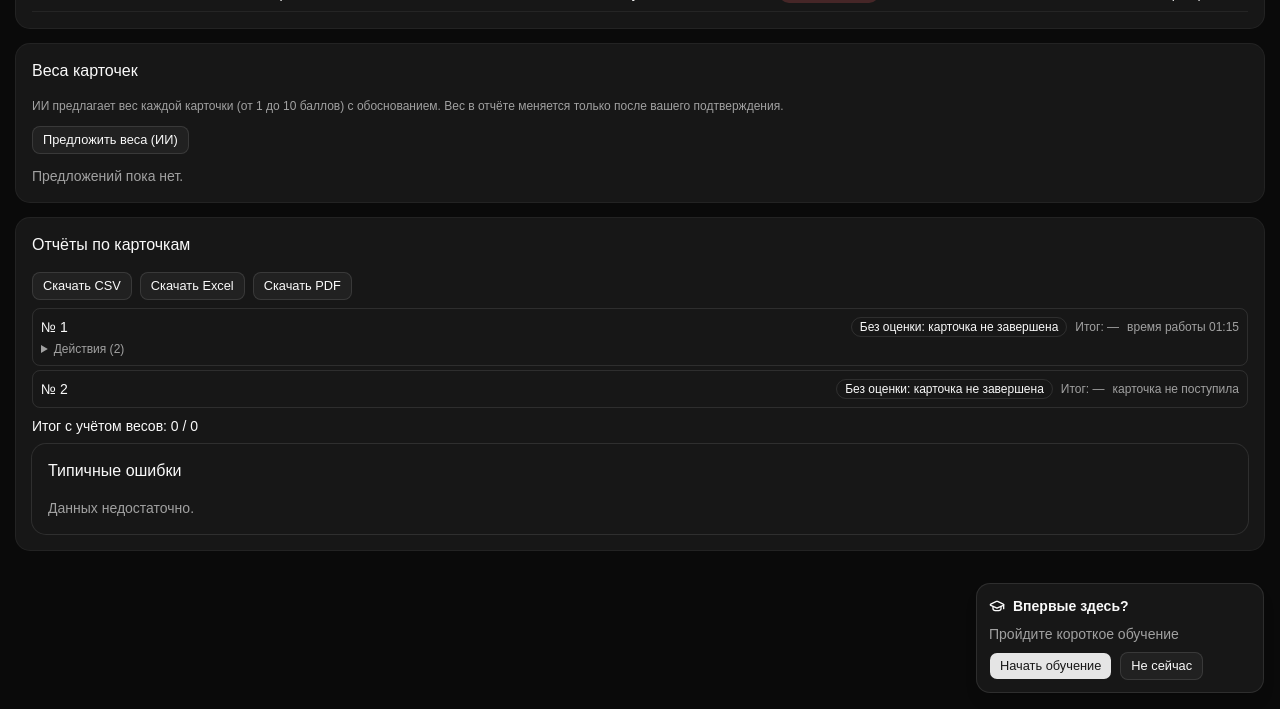
Test: LessonDetailPage — /instructor/lessons/:lessonId (70 §70.3) › lists a card aborted by an early end unscored, with its time at work and its actions (I4 E31)
(page scrolled)
Expected: the text "Без оценки: карточка не завершена" is shown 2 times, top-left (851, 317), bottom-right (1067, 337); top-left (836, 379), bottom-right (1053, 399)
Expected: the text "карточка не поступила" is shown, top-left (1112, 381), bottom-right (1239, 397)
Click the heading "Действия (2)": [89, 349] box top-left (54, 342), bottom-right (124, 356)
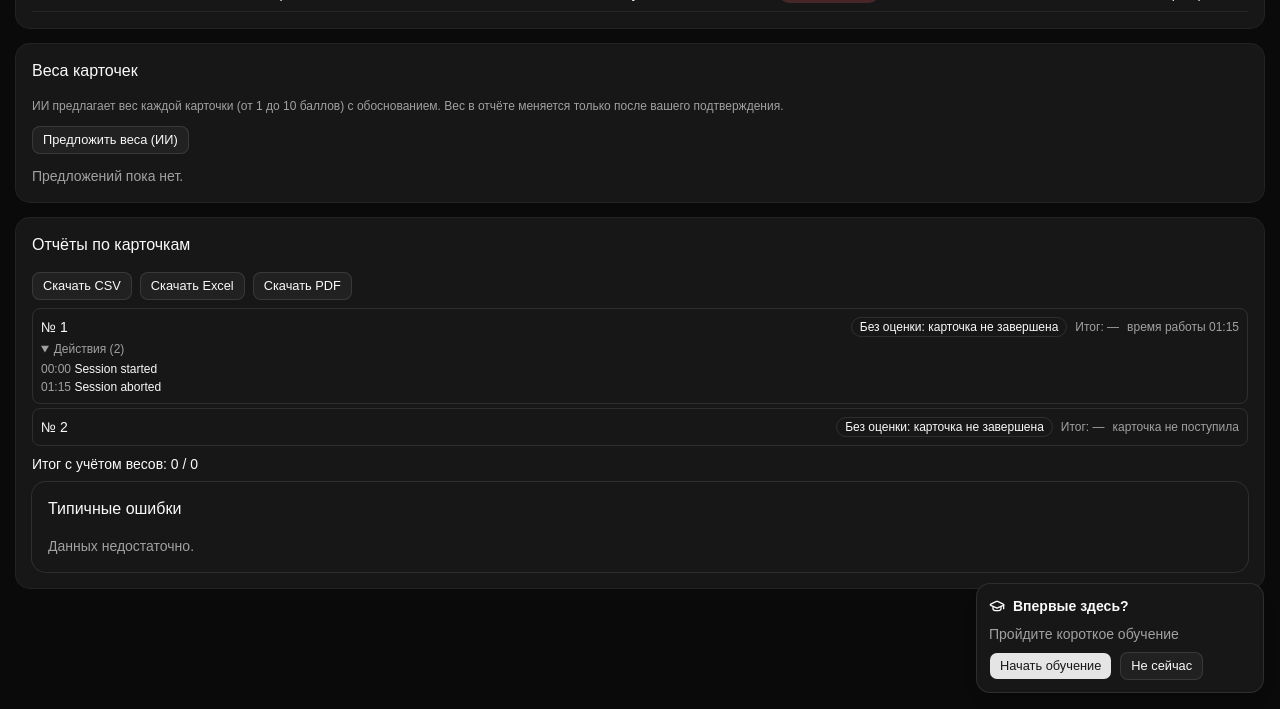
Now the list item "Session aborted" is shown, box top-left (74, 380), bottom-right (161, 394)
